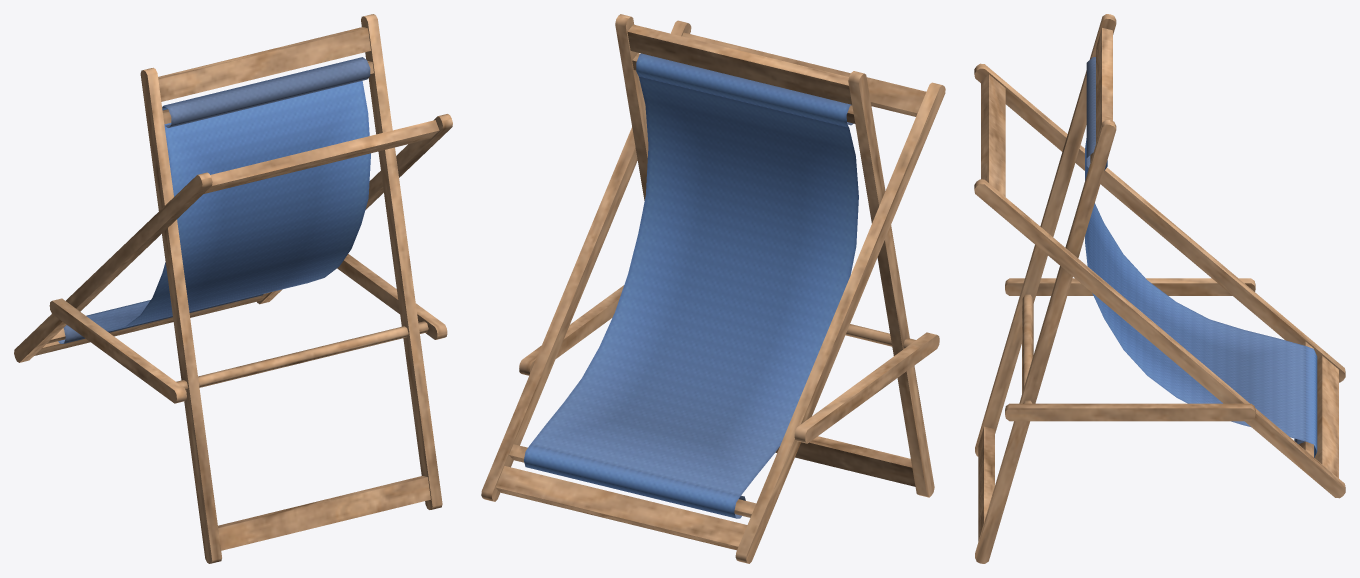
Rendered from Chair.fbx.
The picture shows the model from 3 angles, left to right: view 1: azimuth 30°, elevation 25°; view 2: azimuth 150°, elevation 25°; view 3: azimuth 270°, elevation 25°; orthographic projection. The views are drawn at different scales.
Visible parts, largest first — view 1: CampChair; view 2: CampChair; view 3: CampChair.
Boxes of the visible parts, <box> form: CampChair: <box>14,14,452,563</box>; CampChair: <box>481,14,945,563</box>; CampChair: <box>974,14,1345,563</box>.
Bounding box in the file's own units: 0.675 × 1.06 × 0.815.
